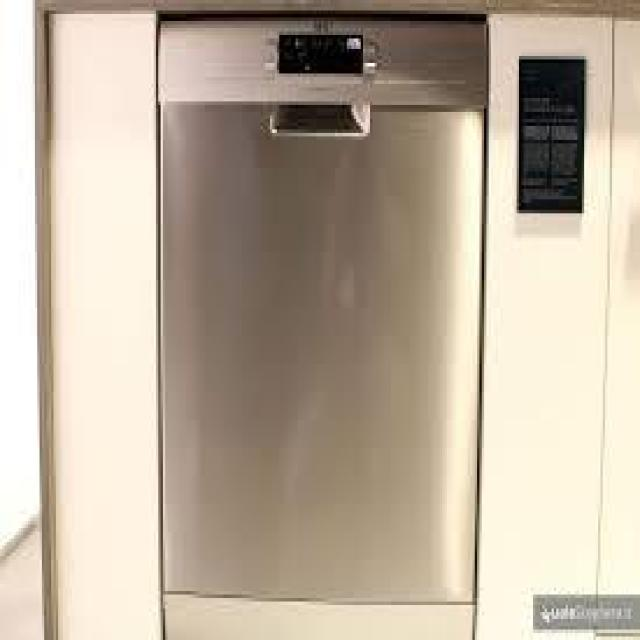dishwasher: (156, 11, 484, 626)
